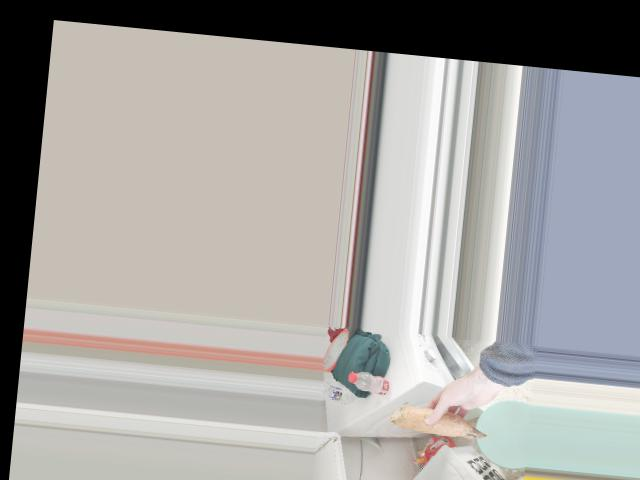sweet_potato: (385, 398, 488, 446)
